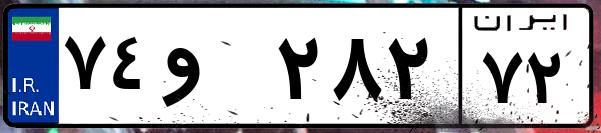2: (270, 28, 330, 110), (385, 28, 445, 110), (525, 38, 570, 115)
4: (110, 28, 158, 98)
7: (57, 26, 110, 100), (475, 38, 525, 113)
8: (330, 28, 385, 110)
و: (158, 20, 270, 120)
